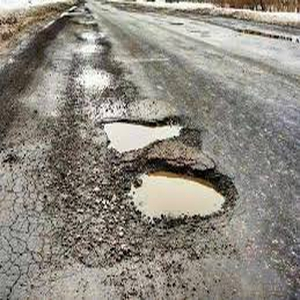pothole: (129, 160, 237, 227), (101, 114, 187, 153)
